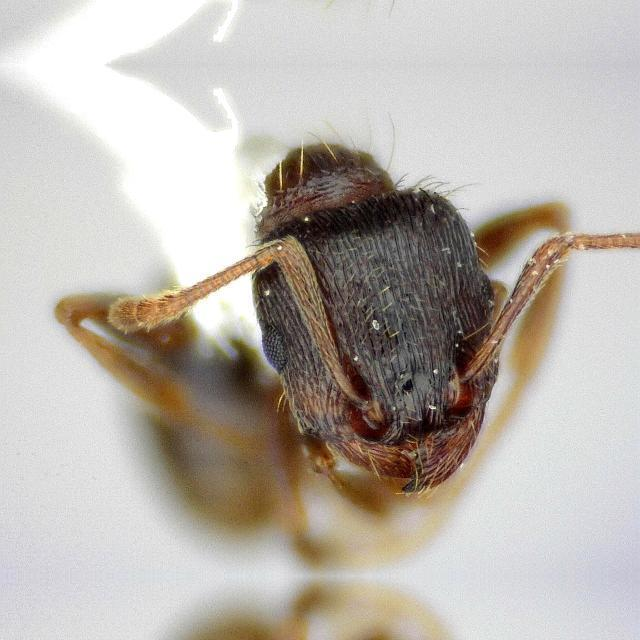Tetramorium: (125, 96, 617, 514)
